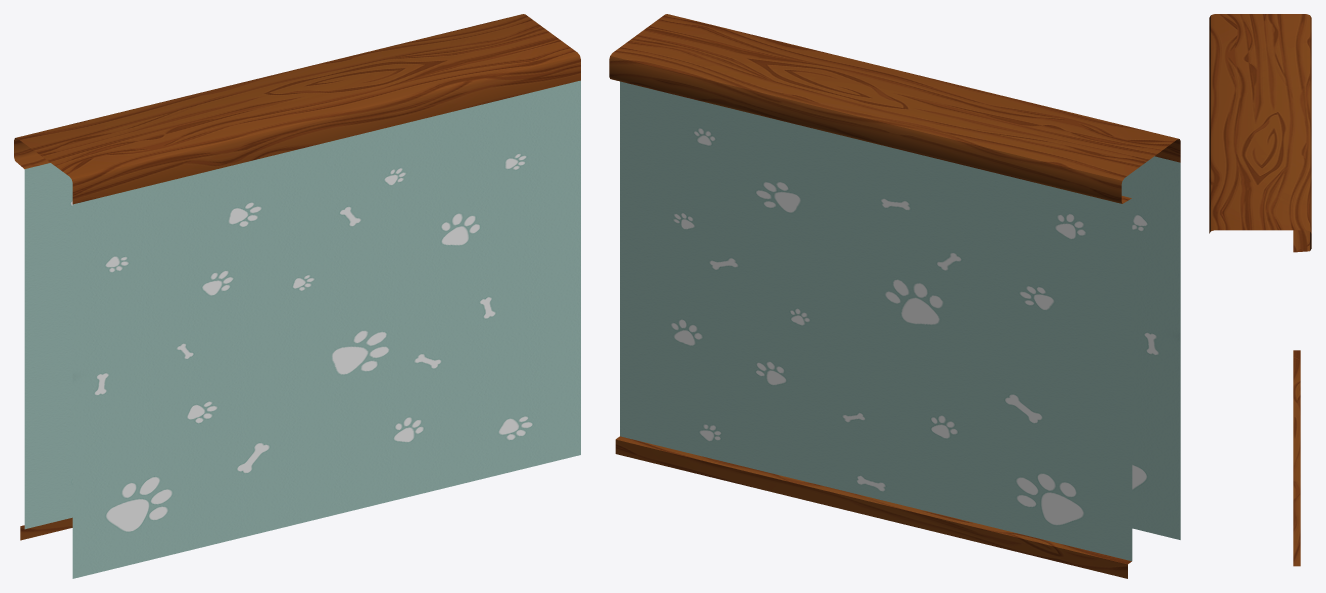
The model's file is SM_Env_WallSmall.fbx.
The picture shows the model from 3 angles, left to right: view 1: azimuth 30°, elevation 25°; view 2: azimuth 150°, elevation 25°; view 3: azimuth 270°, elevation 25°; orthographic projection. The views are drawn at different scales.
Parts seen in each view (by area): view 1: SM_Env_WallSmall; view 2: SM_Env_WallSmall; view 3: SM_Env_WallSmall.
Part boxes in pixels (x1,y1,x2,y2): SM_Env_WallSmall: [14, 14, 580, 578]; SM_Env_WallSmall: [609, 14, 1180, 578]; SM_Env_WallSmall: [1209, 14, 1311, 566].
Size of the model in its own units: 2.5 by 1.88 by 0.5.
